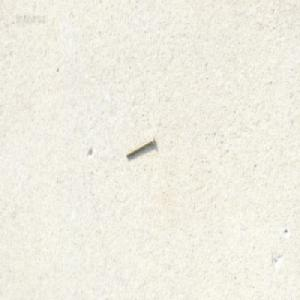Bolt: (125, 135, 154, 158)
